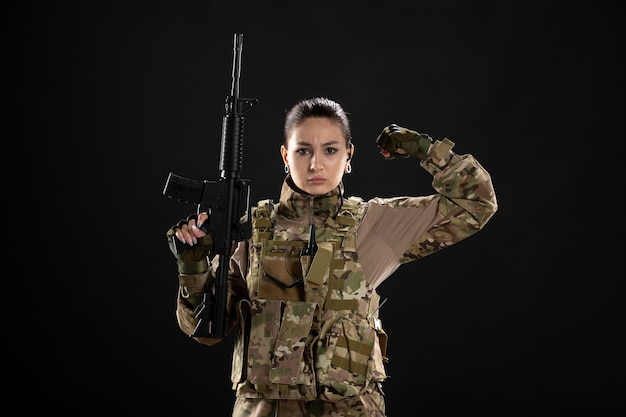gun: (161, 32, 263, 337)
